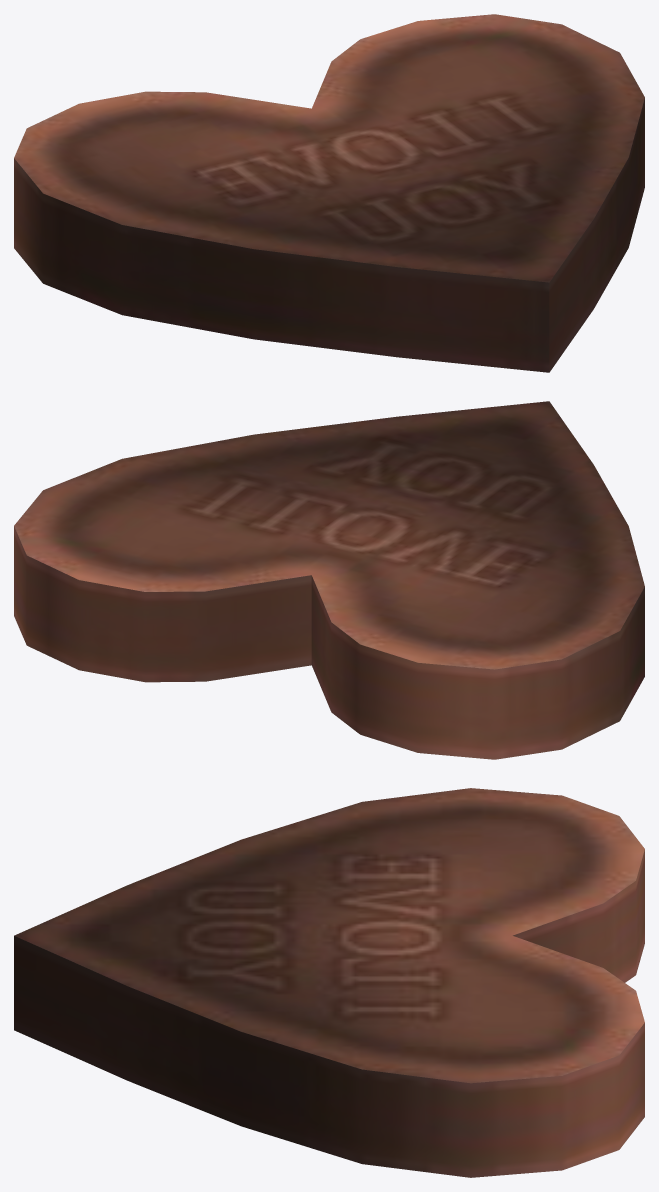
File: wand_s_choco_eart_wand_s_choco_heart.glb
The picture shows the model from 3 angles, top to bottom: view 1: azimuth 30°, elevation 25°; view 2: azimuth 150°, elevation 25°; view 3: azimuth 270°, elevation 25°; orthographic projection. The views are drawn at different scales.
Bounding box in the file's own units: 0.5327 × 0.0796 × 0.4812.
Materials: 1 (1 with a texture image).
